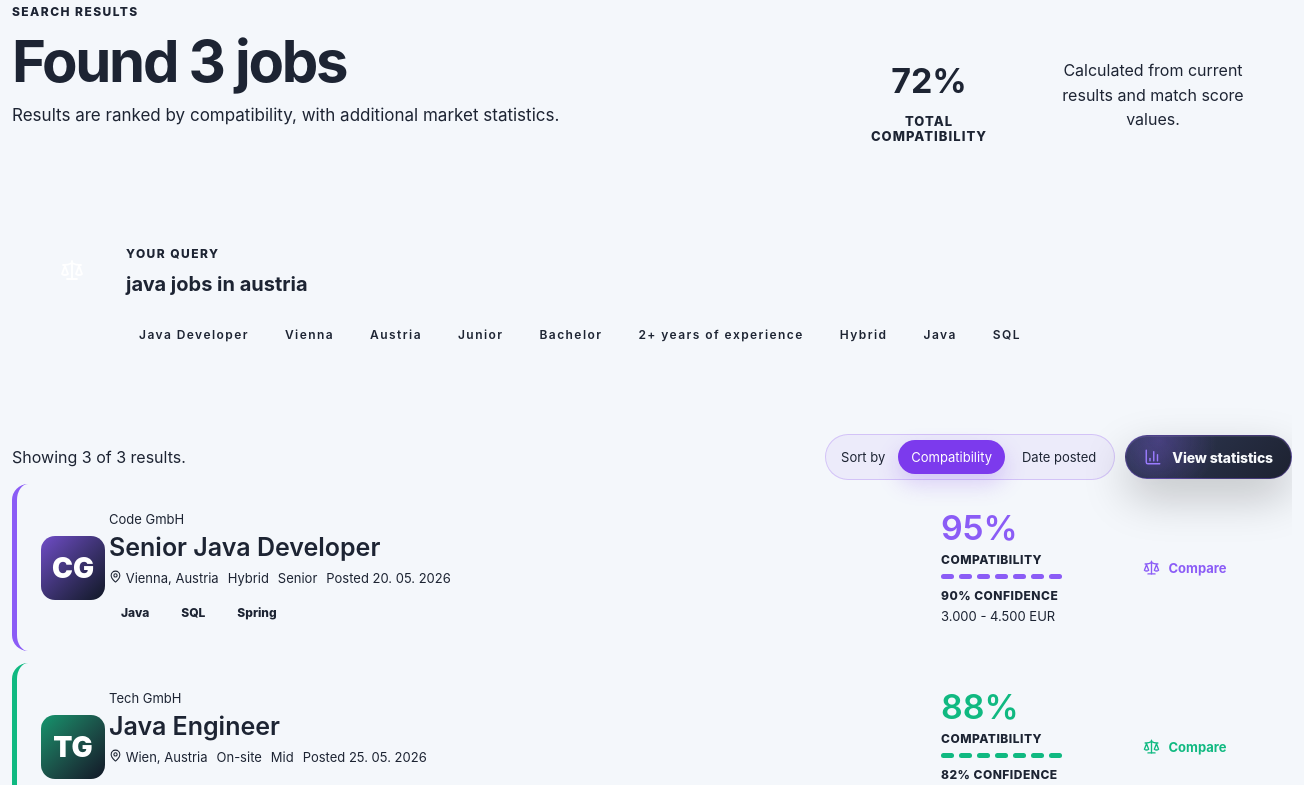
Test: limits comparison selection to two jobs
Click the button with aria-label "add job to comparison" at (1185, 568), box [1102,549,1268,586]
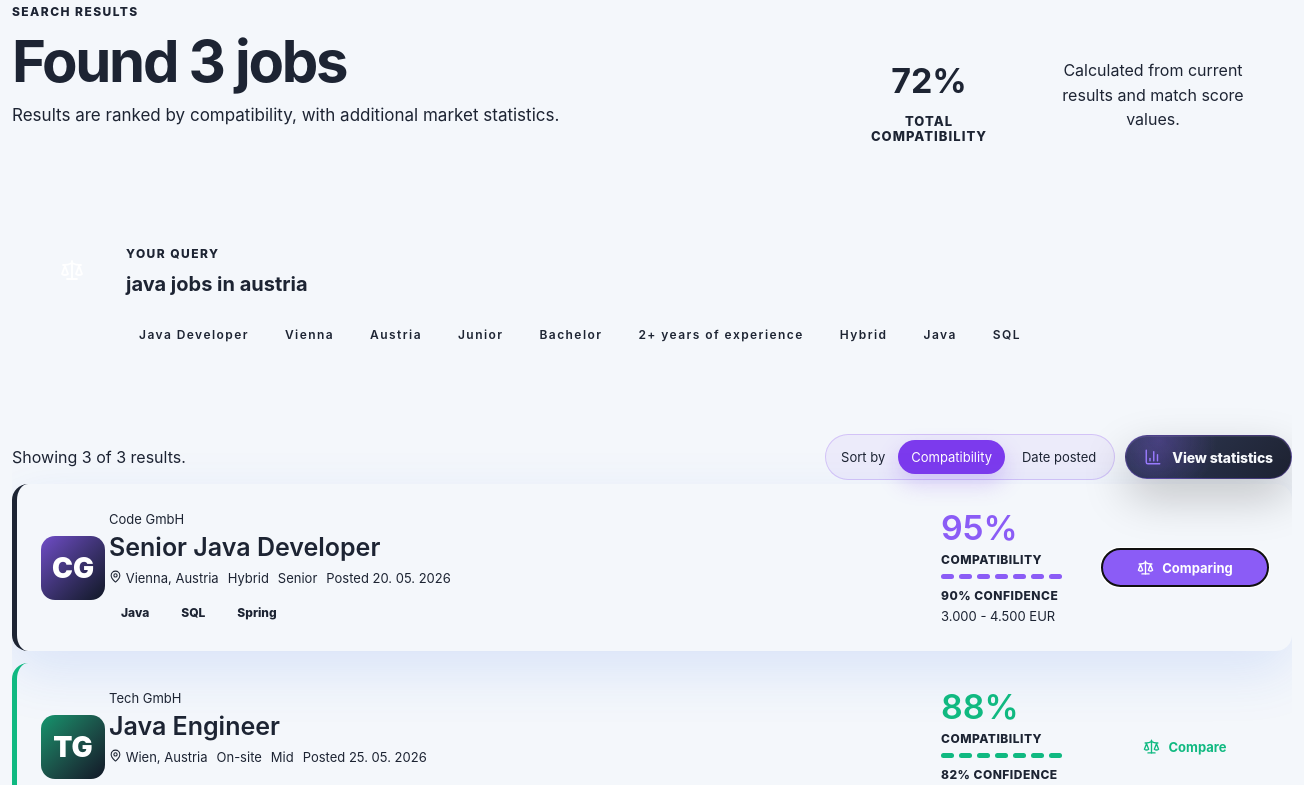
Click the button with aria-label "add job to comparison" at (1185, 746), box [1102,728,1268,765]
(page scrolled)
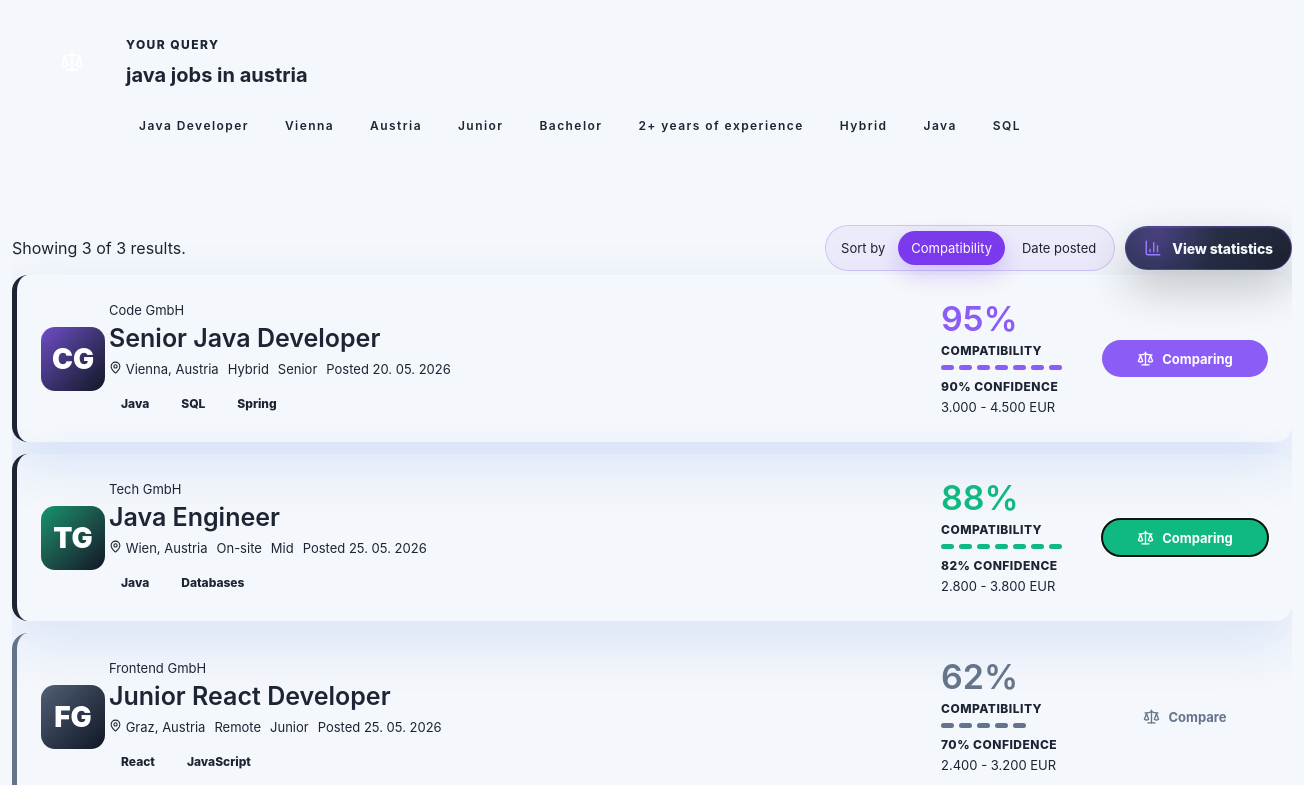
Click the button with aria-label "add job to comparison" at (1185, 716), box [1102,698,1268,735]
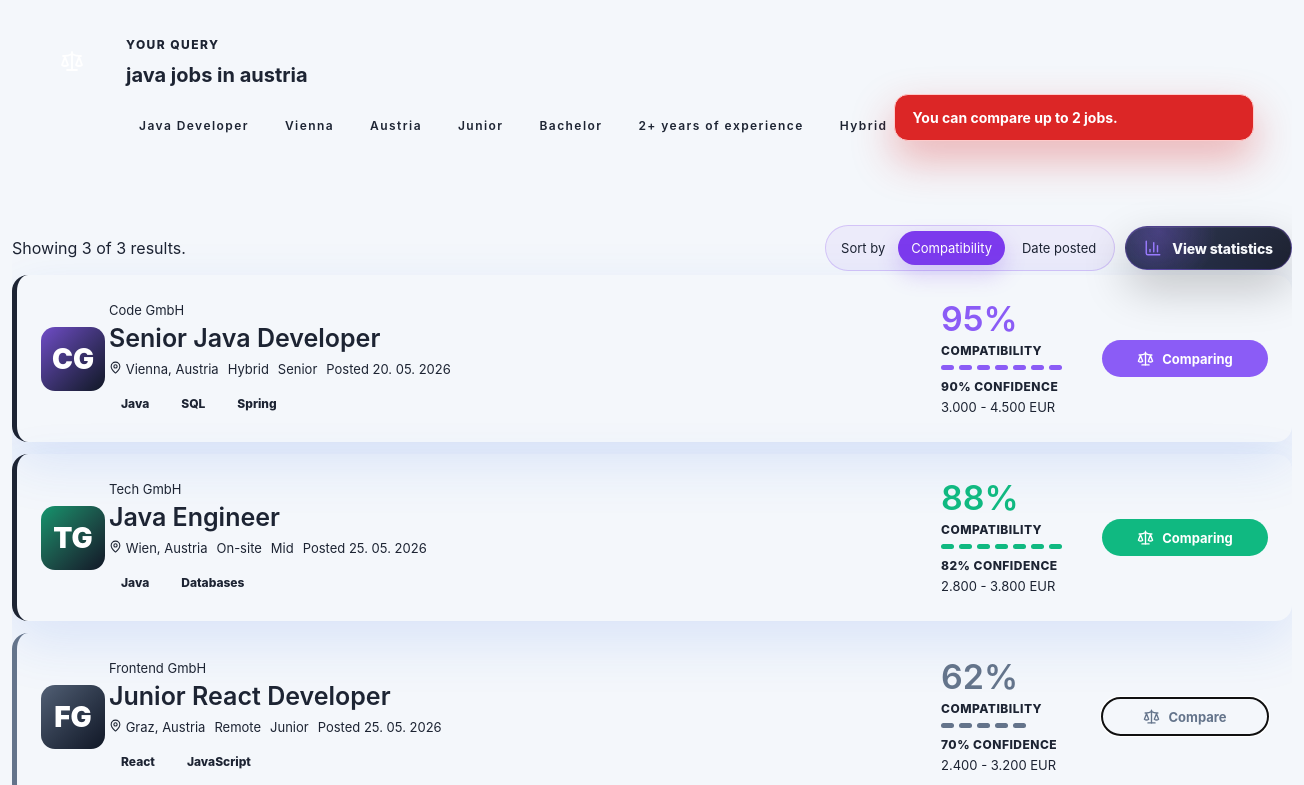
expect the number of buttons named "remove job from comparison" is 2: met, box [1102,340,1268,377]; [1102,519,1268,556]
expect the text "You can compare up to 2 jobs." is shown: met, box [894,94,1254,141]
